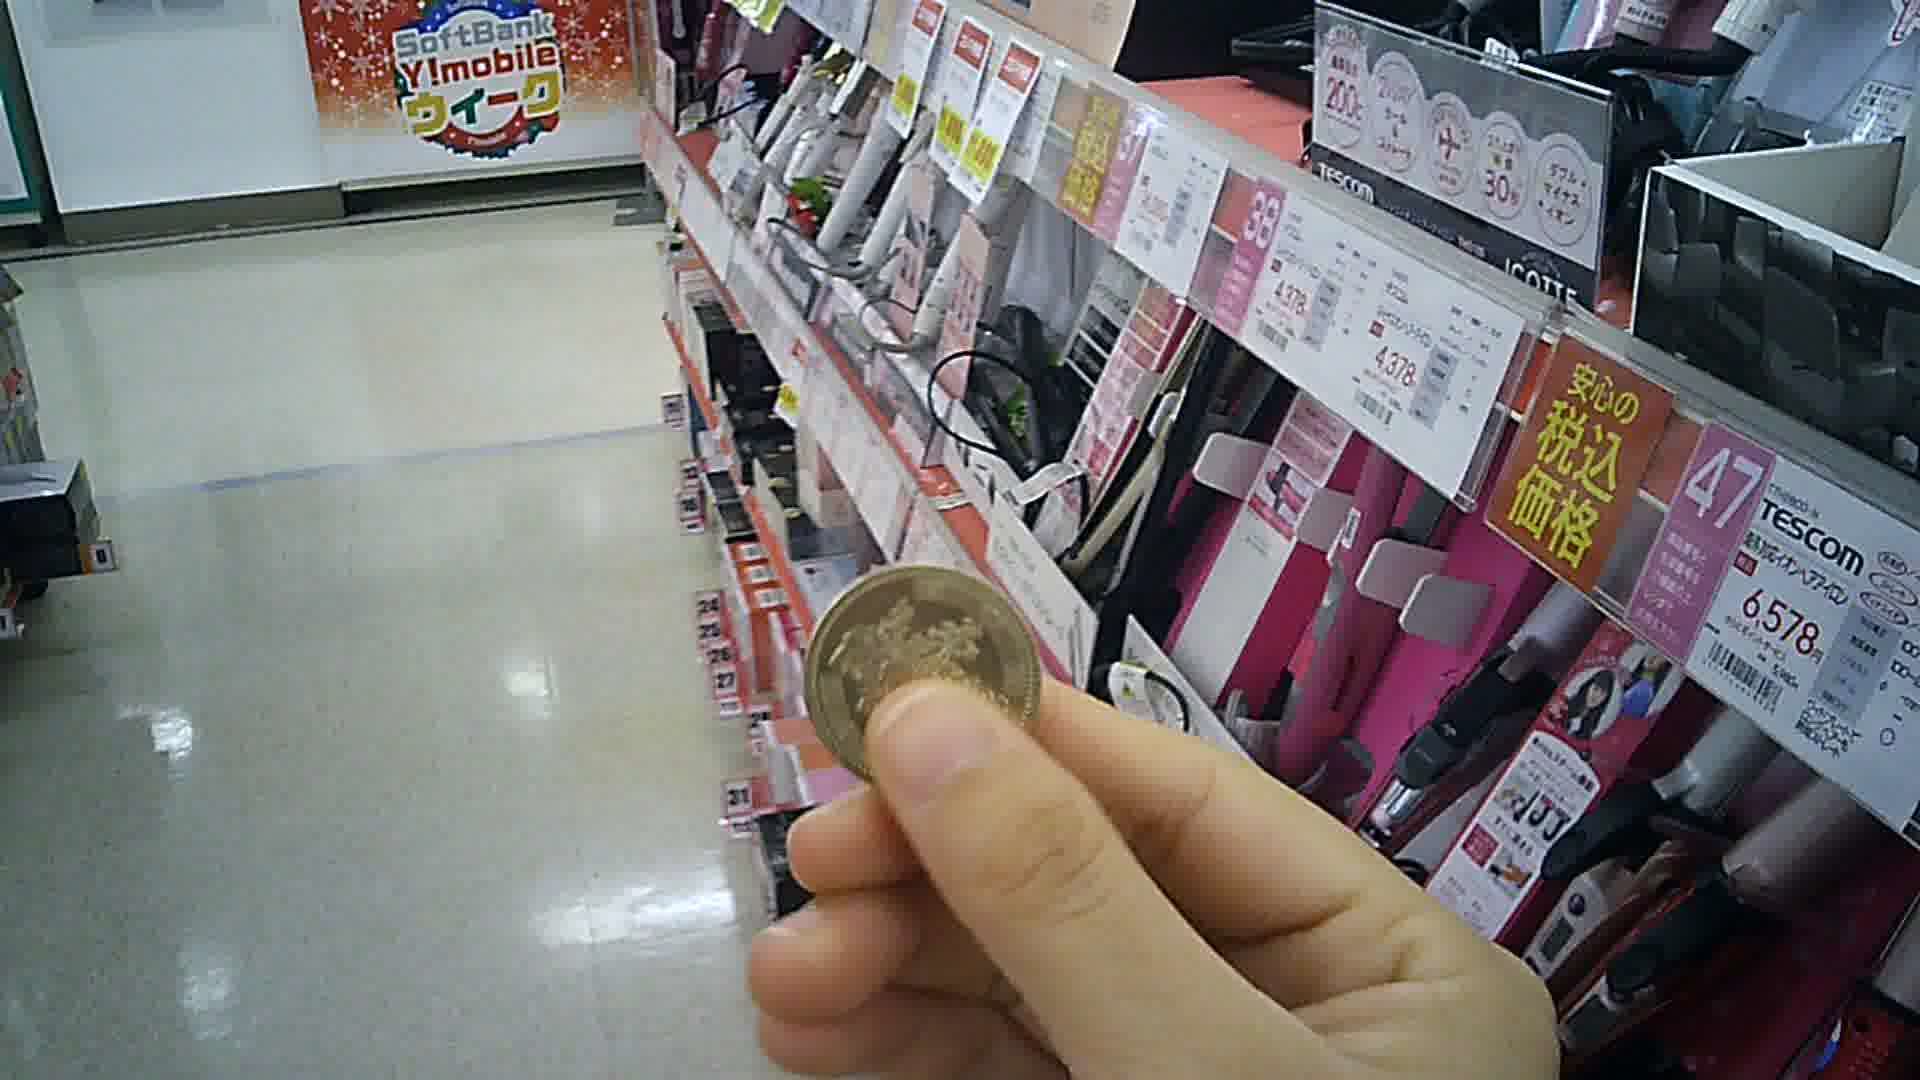500 Yen: (802, 559, 1050, 785)
